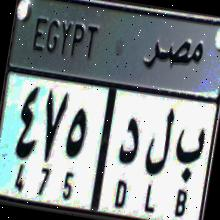4: (8, 80, 46, 165)
5: (60, 103, 97, 163)
7: (34, 82, 70, 165)
baa: (170, 115, 210, 184)
daal: (112, 104, 147, 170)
laam: (143, 106, 177, 180)
